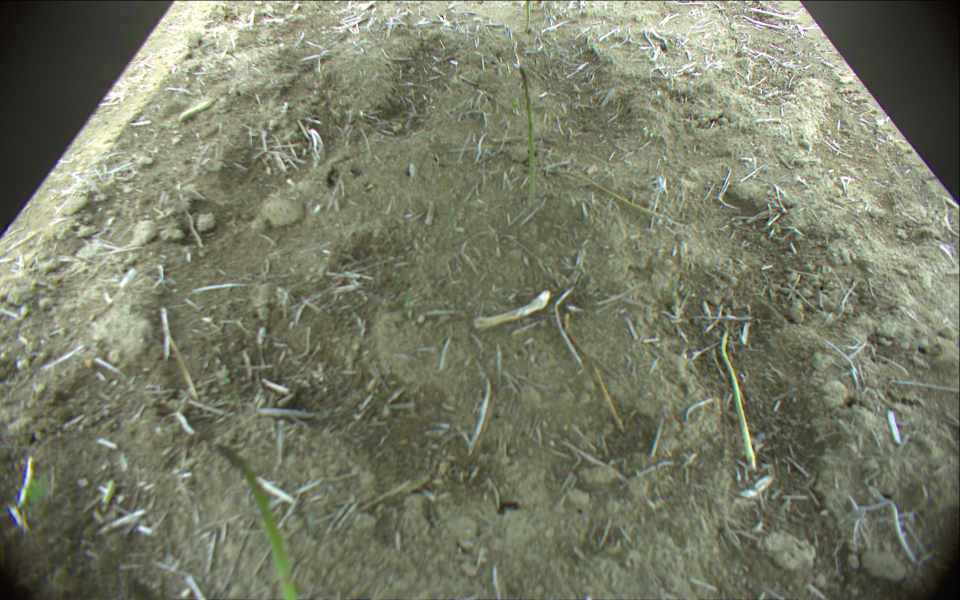aspa: (214, 443, 298, 600), (551, 171, 682, 228), (719, 329, 757, 471), (518, 66, 538, 199), (522, 1, 531, 30)
